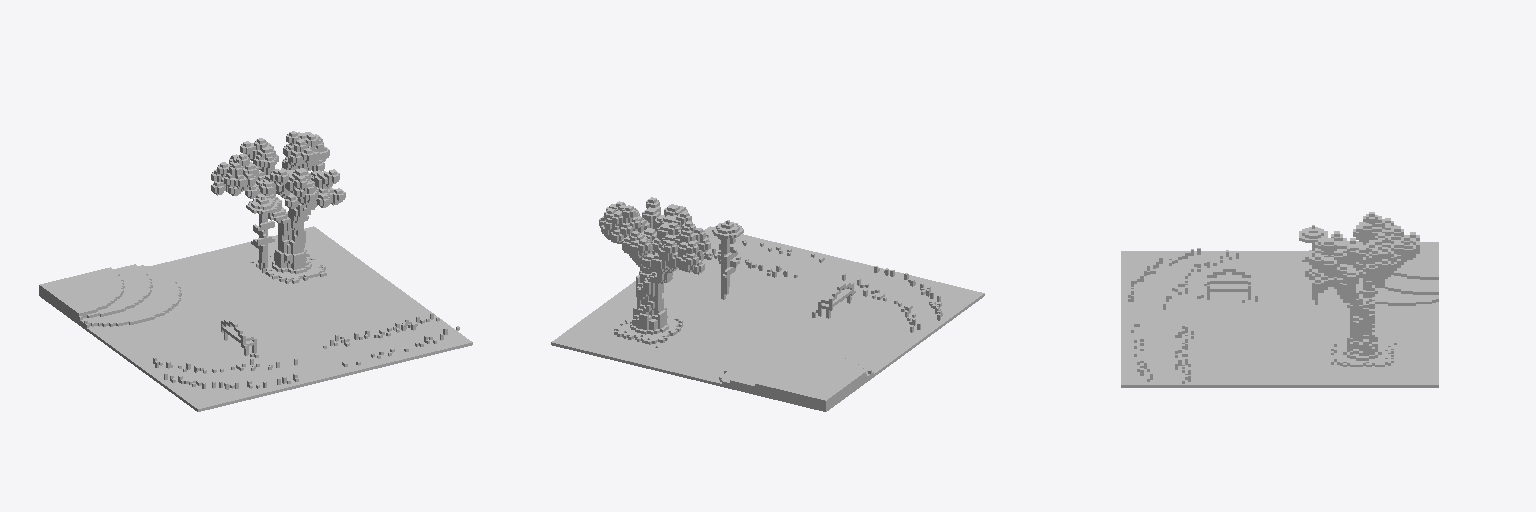
The model's file is razcestnik.obj.
3 views of the same model, side by side, from view 1: azimuth 30°, elevation 25°; view 2: azimuth 150°, elevation 25°; view 3: azimuth 270°, elevation 25° (orthographic).
Visible parts, largest first — view 1: object 1; view 2: object 1; view 3: object 1.
Part boxes in pixels (left/top/right/bottom): object 1: left=39, top=131, right=472, bottom=411; object 1: left=551, top=197, right=984, bottom=411; object 1: left=1121, top=212, right=1438, bottom=387.
Bounding box in the file's own units: 10 × 4.5 × 10.